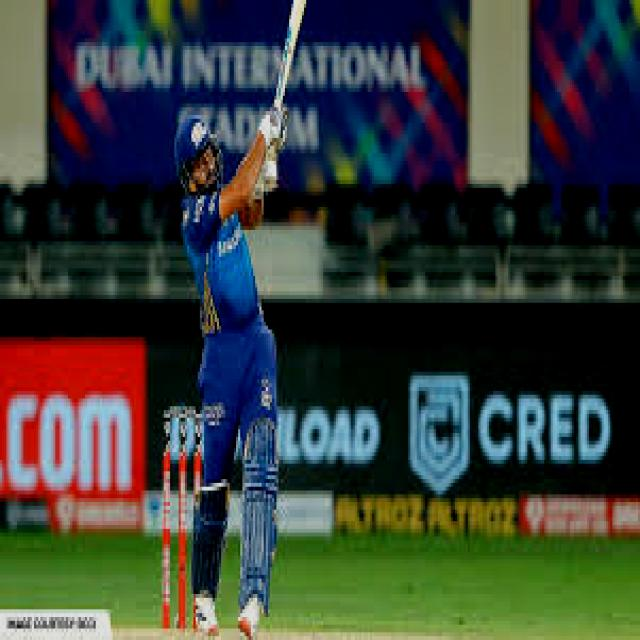toe: (284, 0, 312, 16)
